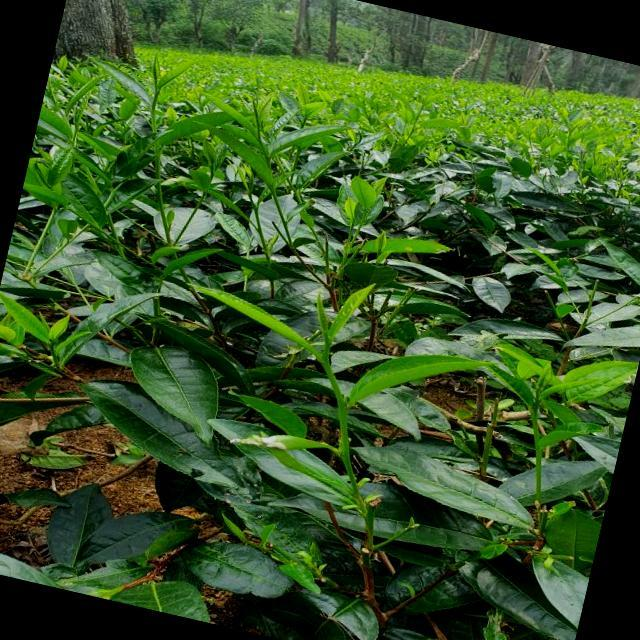Stem: (324, 342, 332, 351), (532, 414, 537, 421), (154, 92, 159, 98)
